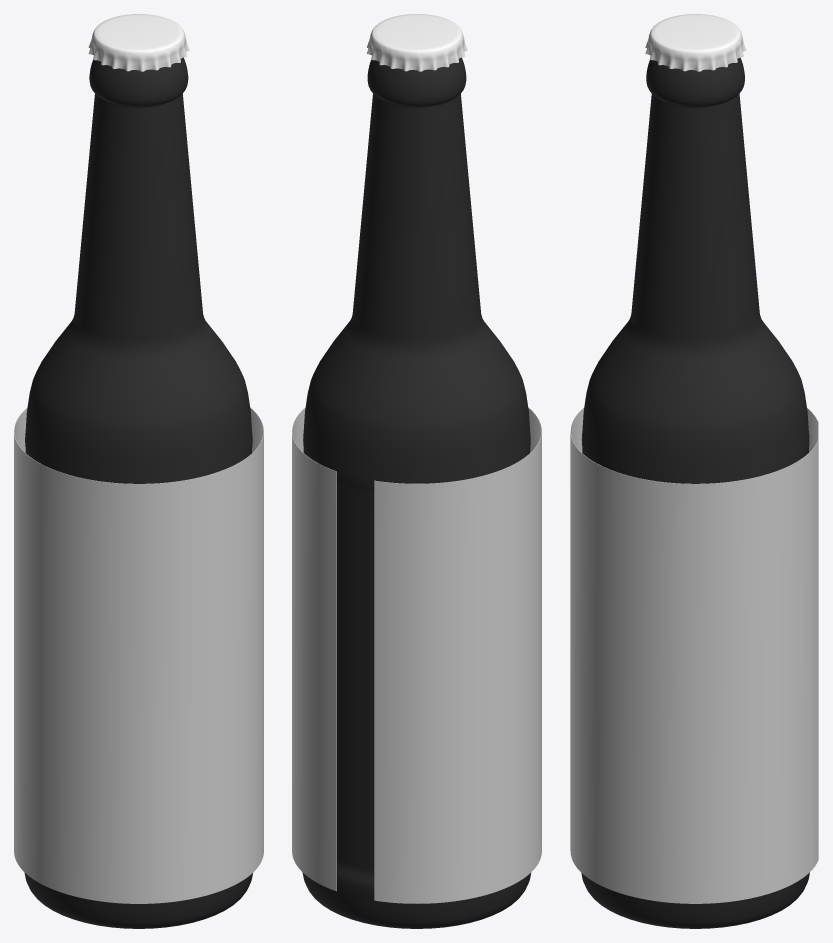
File: bottiglia-compress.glb
The picture shows the model from 3 angles, left to right: view 1: azimuth 30°, elevation 25°; view 2: azimuth 150°, elevation 25°; view 3: azimuth 270°, elevation 25°; orthographic projection.
Visible parts, largest first — view 1: Etichetta, Bottiglia, Tappo; view 2: Etichetta, Bottiglia, Tappo; view 3: Etichetta, Bottiglia, Tappo.
Boxes of the visible parts, left/top/right/bottom form: Etichetta: left=14, top=407, right=263, bottom=903; Bottiglia: left=24, top=57, right=252, bottom=928; Tappo: left=88, top=14, right=189, bottom=71; Etichetta: left=292, top=407, right=541, bottom=903; Bottiglia: left=302, top=57, right=531, bottom=928; Tappo: left=367, top=14, right=467, bottom=71; Etichetta: left=570, top=407, right=818, bottom=903; Bottiglia: left=581, top=57, right=809, bottom=928; Tappo: left=645, top=14, right=746, bottom=71.
Bounding box in the file's own units: 0.0641 × 0.2415 × 0.0636.
Materials: 3 (1 with a texture image).
